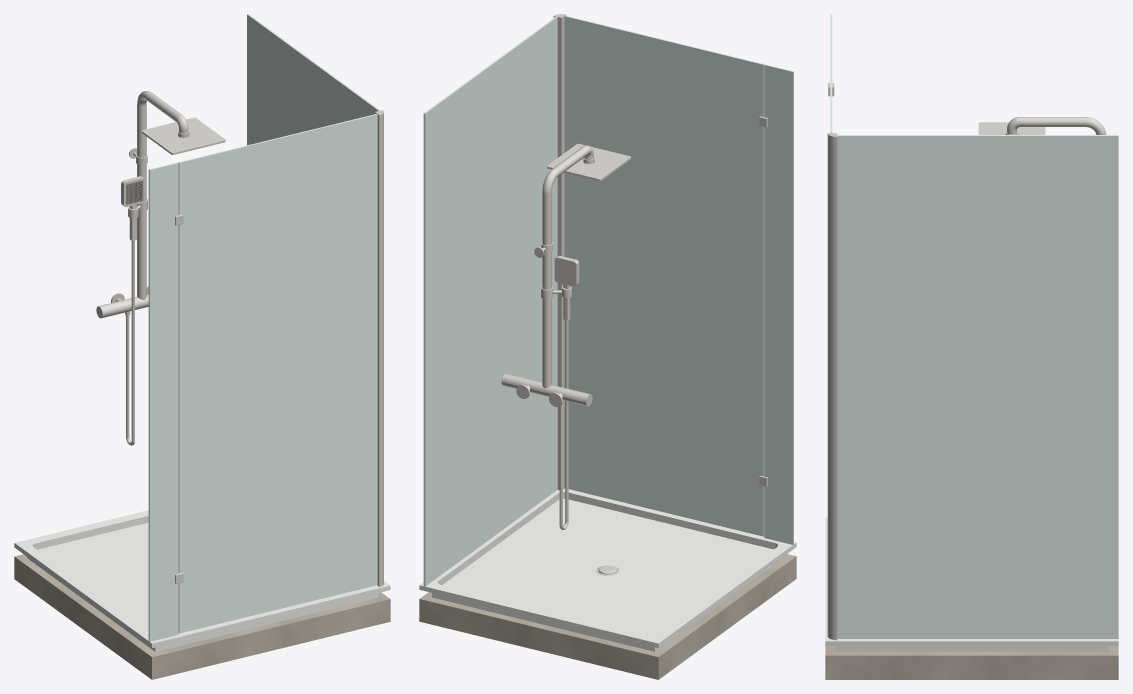
Rendered from shower.glb.
3 views of the same model, side by side, from view 1: azimuth 30°, elevation 25°; view 2: azimuth 150°, elevation 25°; view 3: azimuth 270°, elevation 25° (orthographic). The views are drawn at different scales.
Visible parts, largest first — view 1: shower; view 2: shower; view 3: shower.
Boxes of the visible parts, x1,y1,x2,y2 form: shower: [14, 14, 390, 679]; shower: [419, 14, 796, 679]; shower: [825, 14, 1118, 679].
Bounding box in the file's own units: 1.1 × 2.24 × 1.1.
5 materials, 2 textured.
